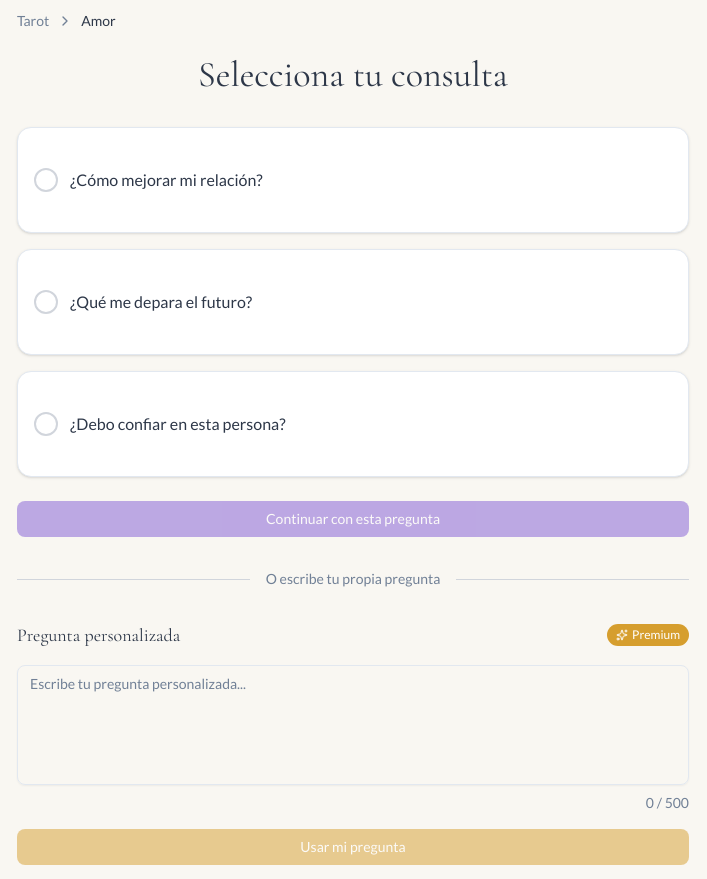
Test: QuestionSelector › Existing Functionality (not broken) › should select a predefined question
Click the button "¿Cómo mejorar mi relación?" at {"x": 166, "y": 180}, box [17,127,689,233]
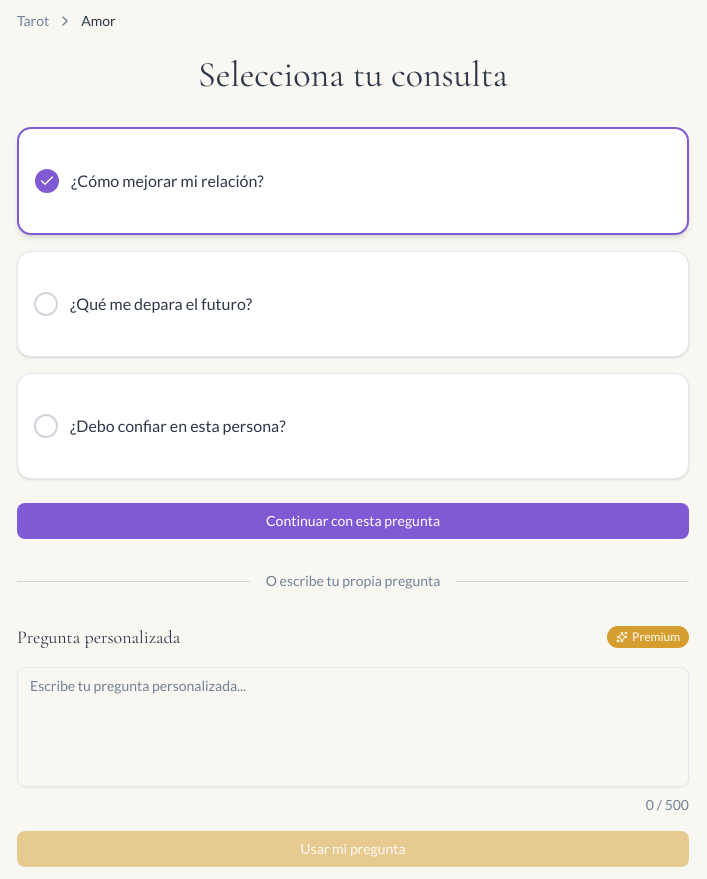
Expected: the icon with test id "check-icon" is shown, [39,173,55,189]
Expected: the button "Continuar con esta pregunta" is enabled, [17,503,689,539]
